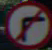Don't turn right: (12, 7, 45, 41)
